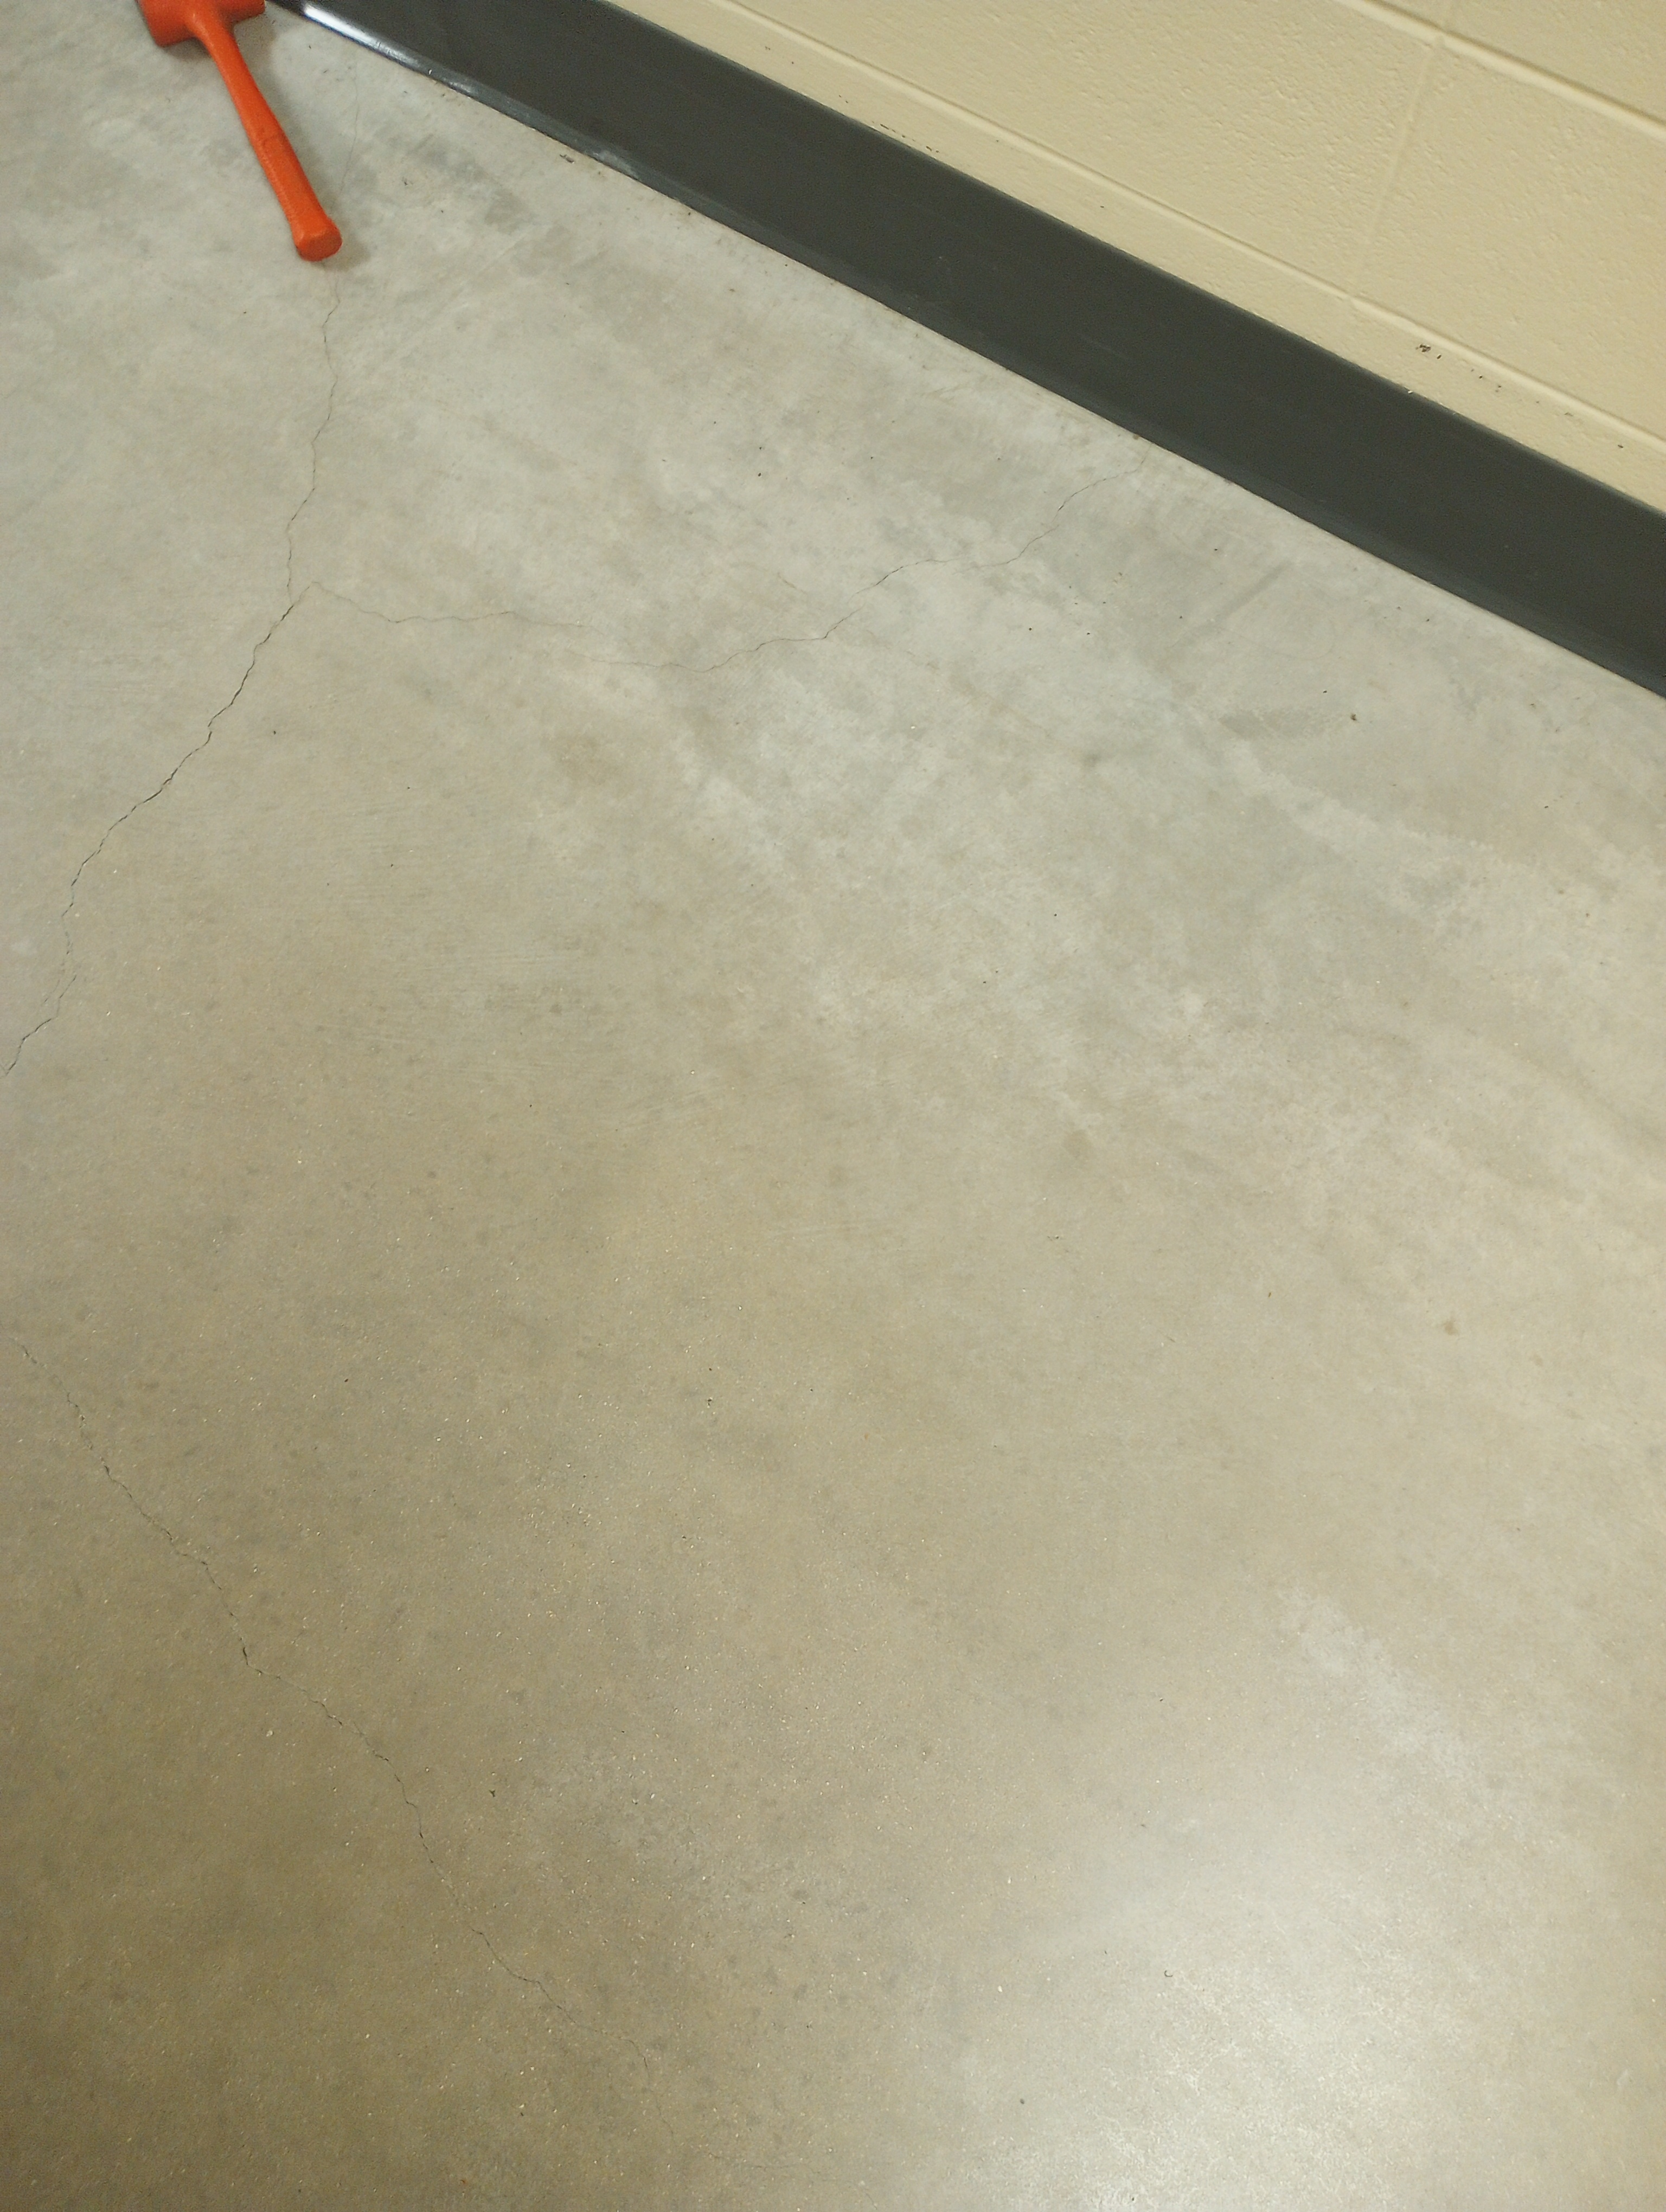bottle: (131, 0, 346, 282)
